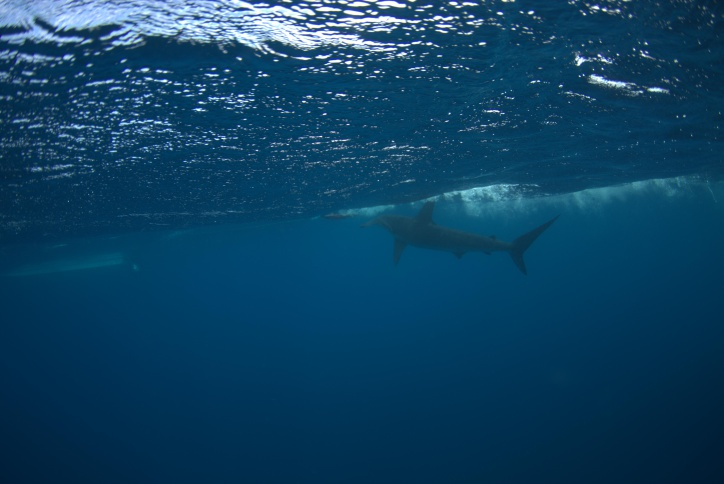Hammer: (358, 198, 557, 302)
